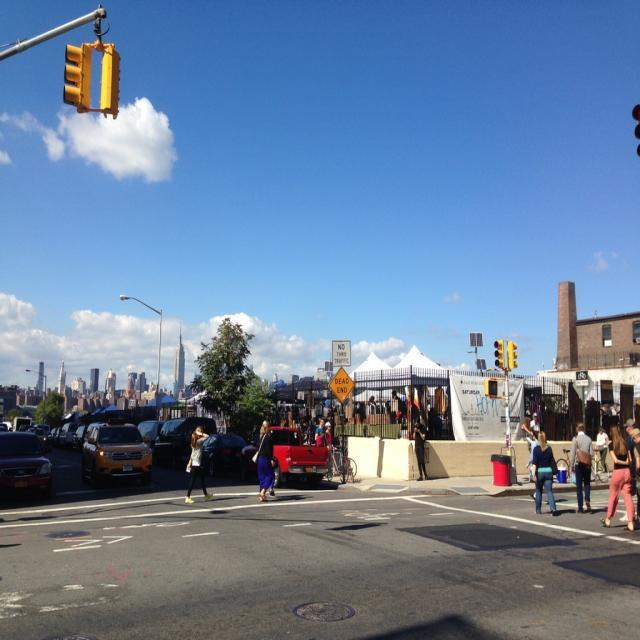off traffic light: (64, 44, 92, 112), (492, 340, 505, 369)
